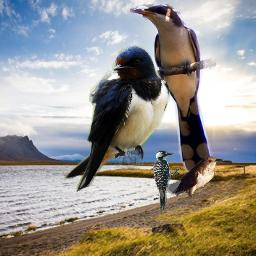Cuckoo: (130, 4, 216, 176), (167, 156, 223, 197)
Swallow: (64, 45, 171, 195)
Woodpecker: (152, 150, 182, 210)
